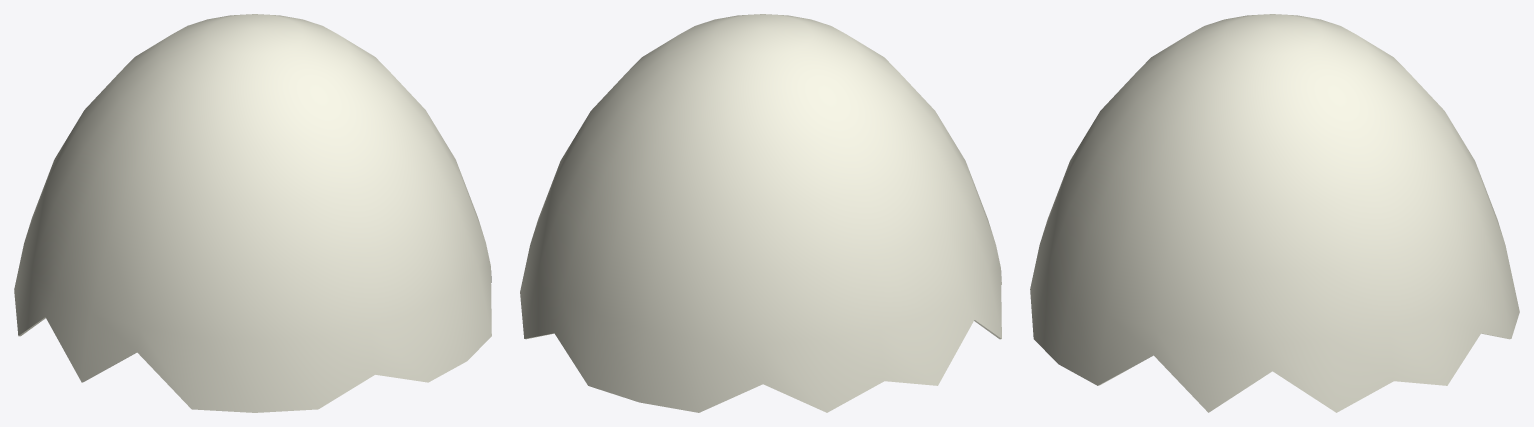
File: Huevon_03.fbx
3 renders of one model, left to right at view 1: azimuth 30°, elevation 25°; view 2: azimuth 150°, elevation 25°; view 3: azimuth 270°, elevation 25°, orthographic.
Visible parts, largest first — view 1: Huevon_03; view 2: Huevon_03; view 3: Huevon_03.
Part boxes in pixels (x1,y1,x2,y2): Huevon_03: [14, 14, 491, 412]; Huevon_03: [520, 14, 1001, 412]; Huevon_03: [1030, 14, 1519, 412].
Bounding box in the file's own units: 15.7 × 10.07 × 15.74.
